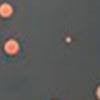orange: (0, 2, 14, 19)
pink: (3, 38, 21, 58)
white: (90, 82, 100, 99), (63, 36, 72, 45)
